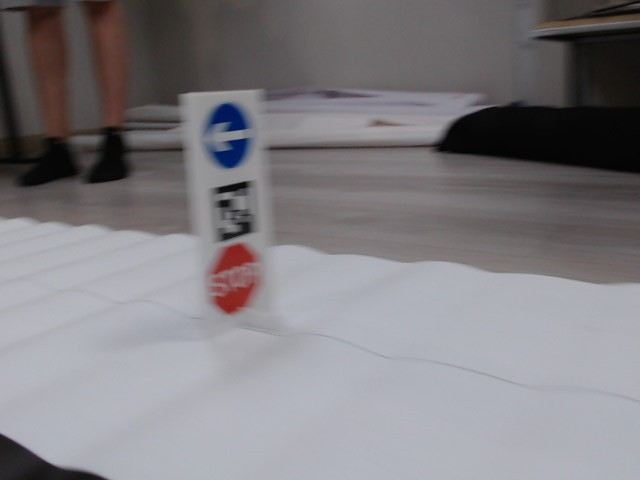Stop: (212, 245, 260, 313)
